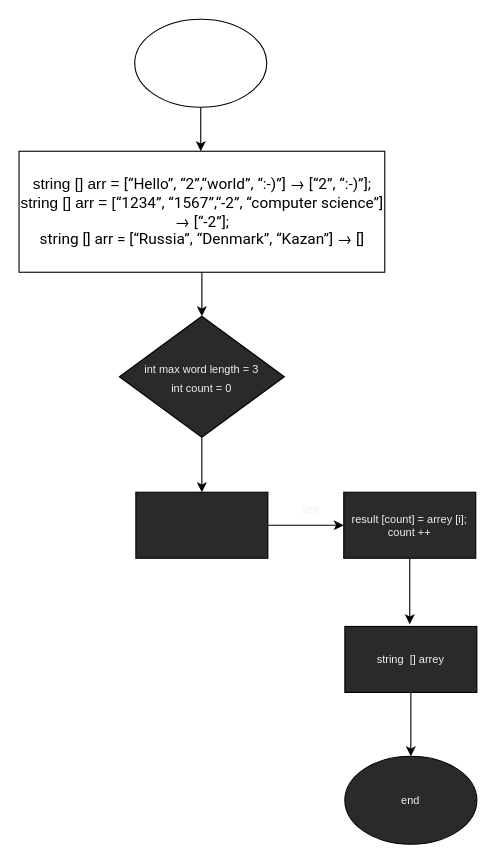
Image size: 497x864. Some labels were removed from this diagram. The box of each missing label's shape, as (x1, y1, x2, y2) in pixels:
int i = 0; i < Iength; i++: (135, 491, 268, 558)
начало: (134, 18, 267, 107)
